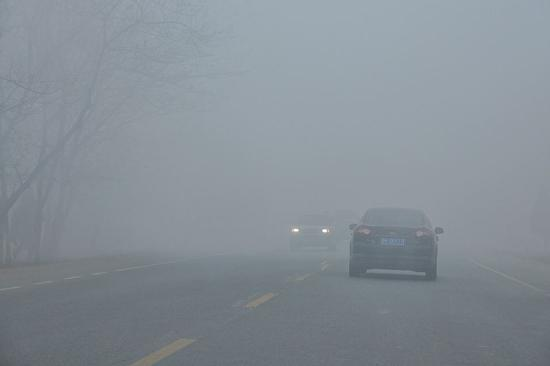car: (347, 205, 447, 283), (289, 213, 337, 252), (329, 208, 362, 241)
